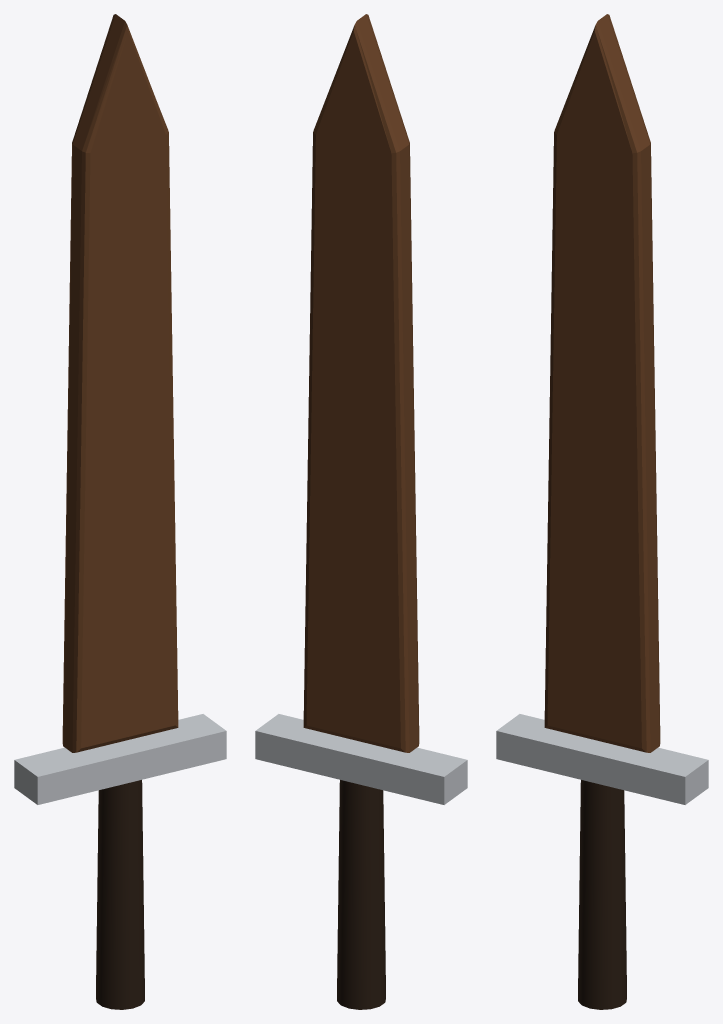
File: wood_sword.glb
The picture shows the model from 3 angles, left to right: view 1: azimuth 30°, elevation 25°; view 2: azimuth 150°, elevation 25°; view 3: azimuth 330°, elevation 25°; orthographic projection.
Parts seen in each view (by area): view 1: blade, grip, guard; view 2: blade, grip, guard; view 3: blade, grip, guard.
Part boxes in pixels (x1,y1,x2,y2): blade: [62, 14, 178, 752]; grip: [96, 780, 144, 1009]; guard: [14, 714, 226, 804]; blade: [303, 14, 419, 752]; grip: [337, 780, 385, 1009]; guard: [255, 714, 467, 804]; blade: [544, 14, 660, 752]; grip: [578, 780, 626, 1009]; guard: [496, 714, 708, 804].
Size of the model in its own units: 0.14 by 0.6957 by 0.032.
